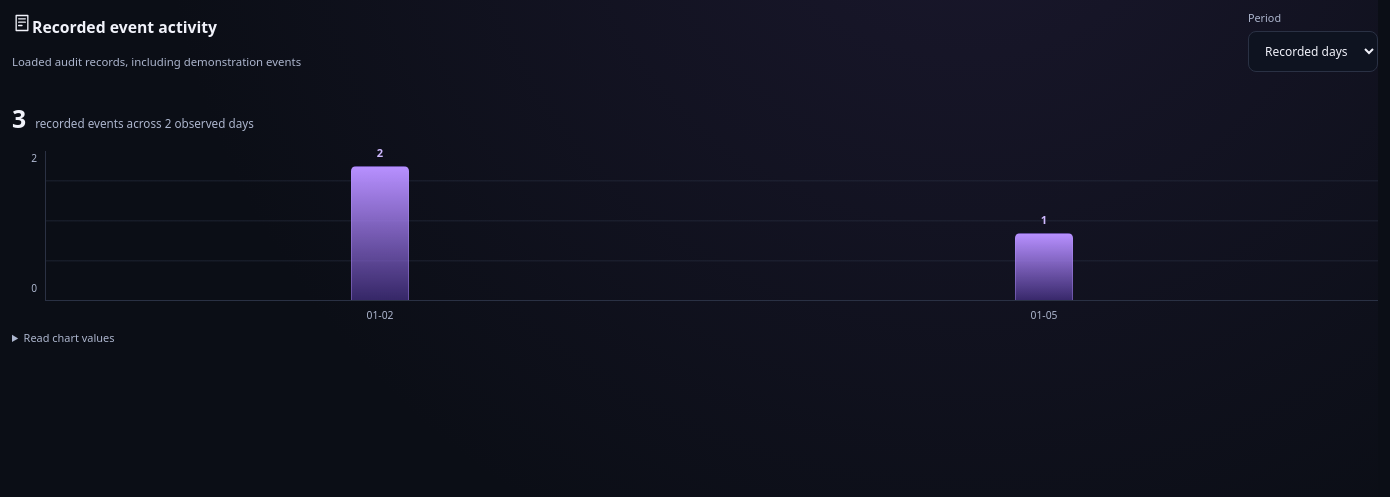
event counts deduplicate IDs and omit invalid timestamps without manufacturing gaps
Step 1. Click the button named "Inspect 2 recorded events on 2026-01-02" → (380, 233), box left=335, top=166, right=425, bottom=300
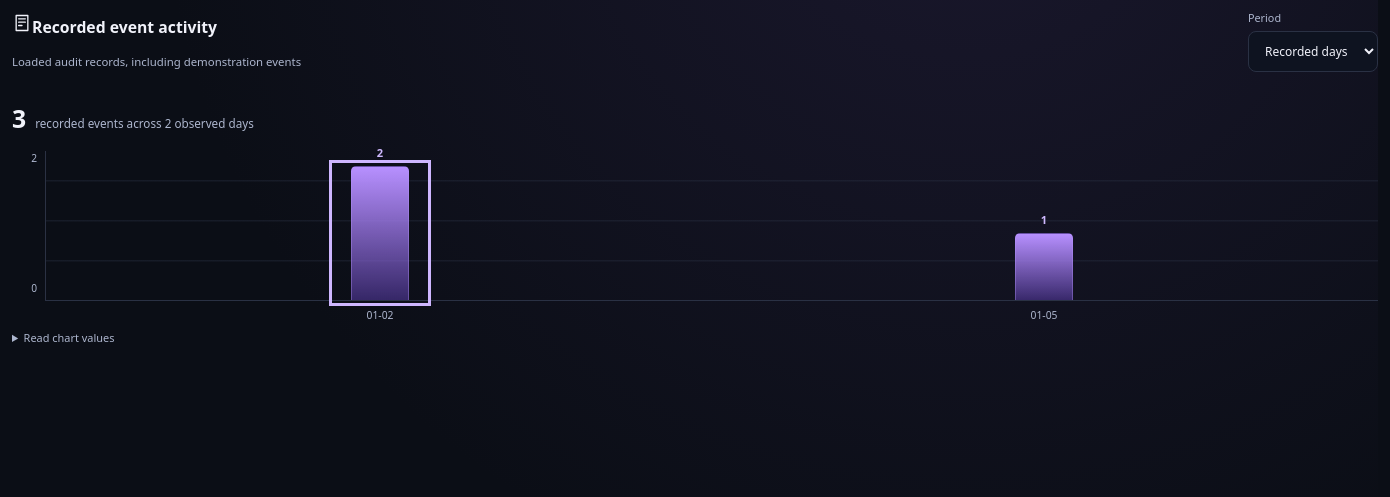
Step 2. Click the heading "Read chart values" → (69, 337), box left=24, top=330, right=114, bottom=345
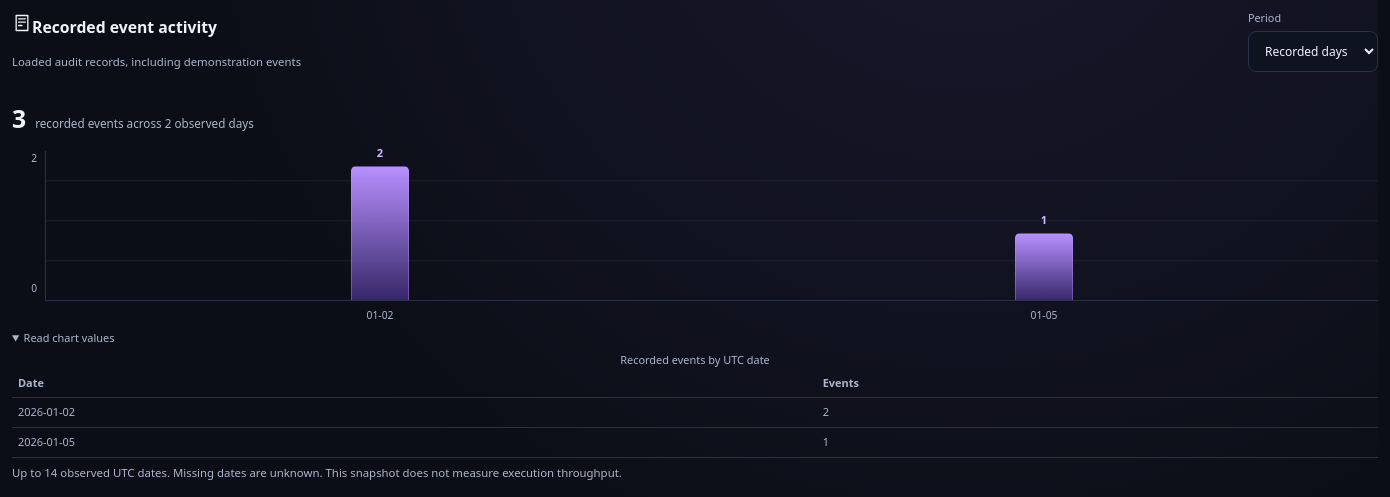
Result: the number of rows is 3 at left=12, top=368, right=1378, bottom=398; left=12, top=398, right=1378, bottom=428; left=12, top=428, right=1378, bottom=458
